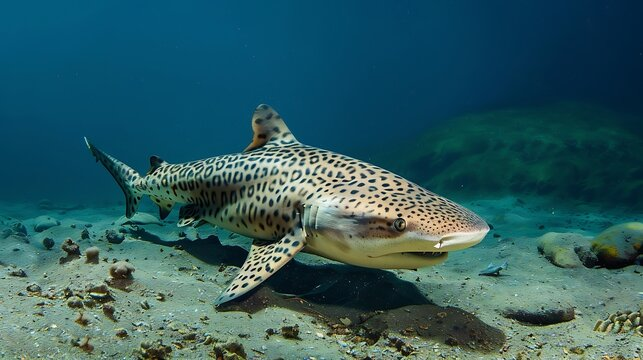Leopard Shark: (68, 73, 510, 318)
